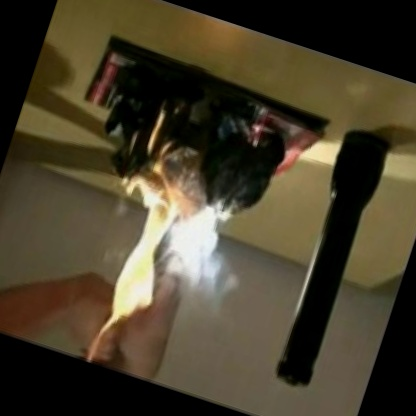fire: (70, 146, 249, 379)
